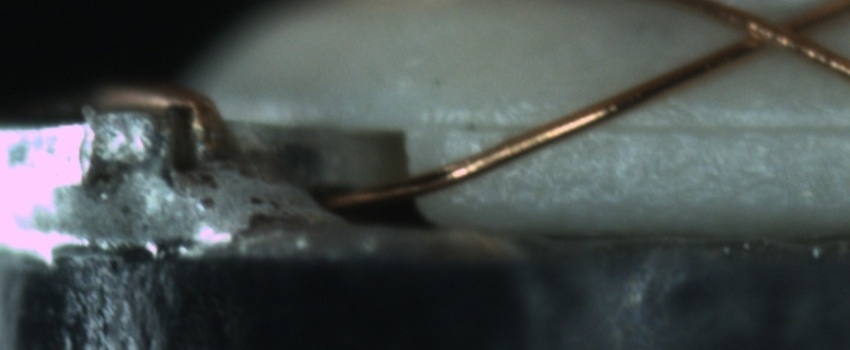CL: (723, 1, 829, 61)
DL: (450, 98, 849, 151)
TE: (90, 76, 230, 165)
